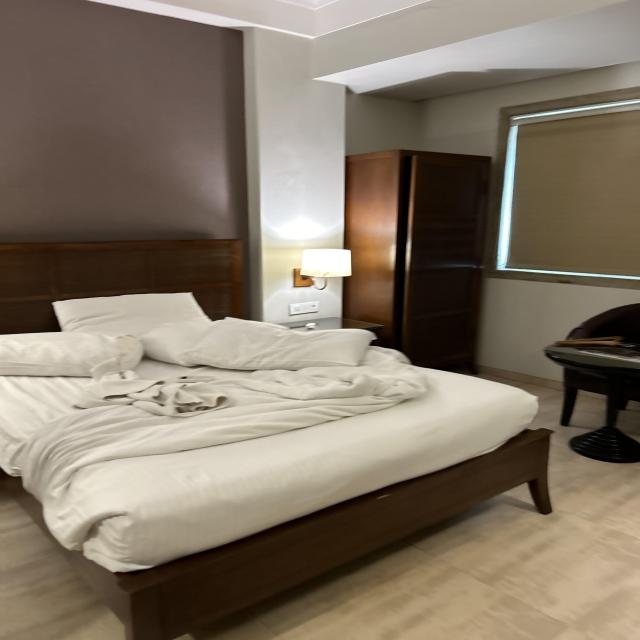mess: (0, 274, 535, 528)
